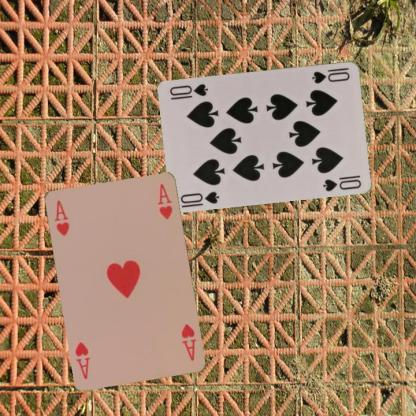10s: (309, 65, 351, 85), (178, 188, 221, 205)
Ah: (178, 321, 197, 362), (51, 197, 70, 237)
